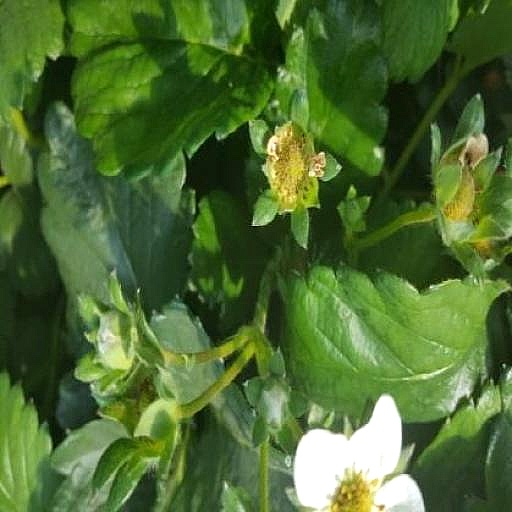Blossom Blight: (269, 307, 316, 386)
